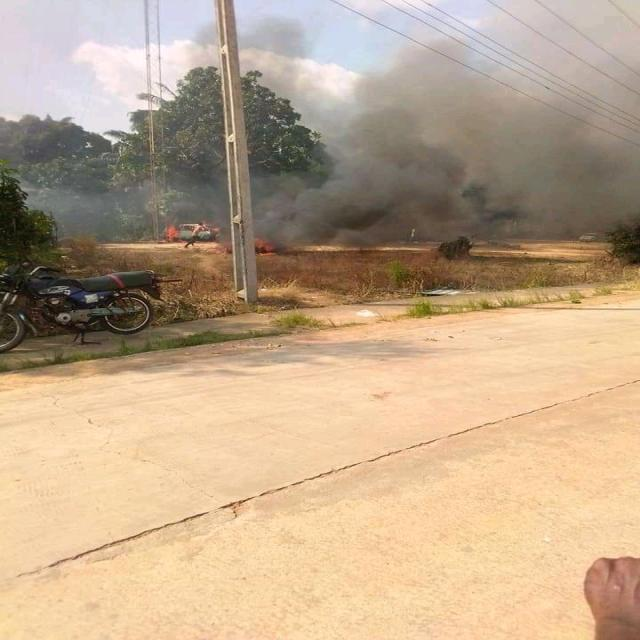Smoke: (326, 99, 607, 221)
